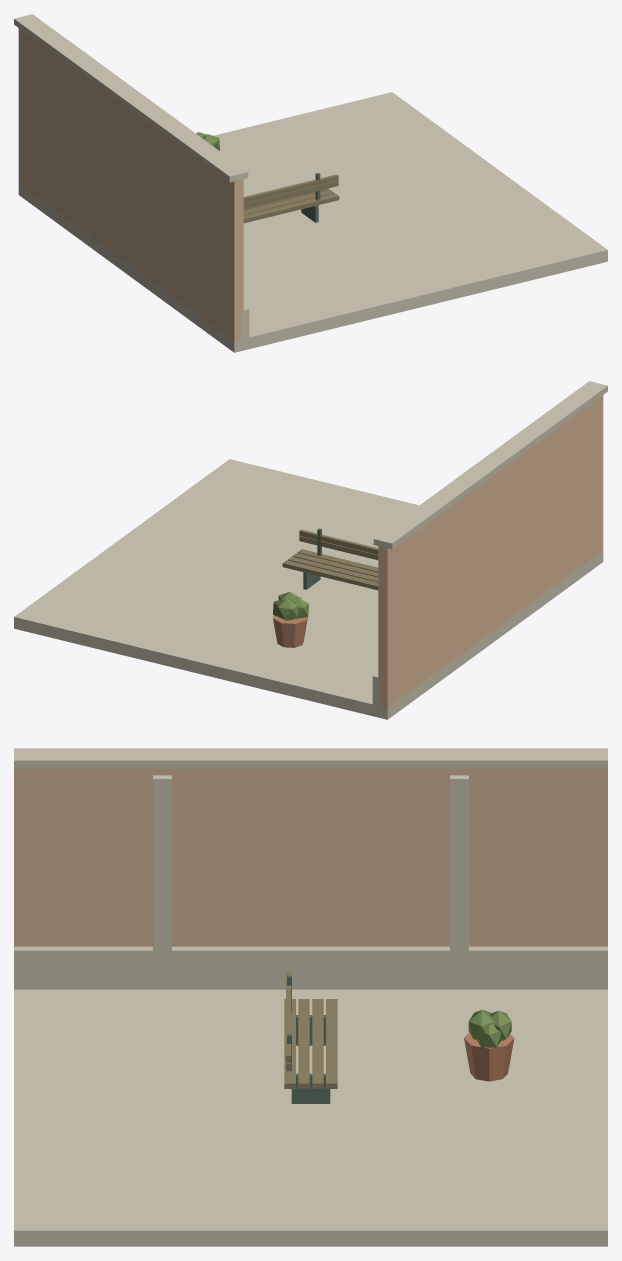
Rendered from district-0-1-1.glb.
3 renders of one model, top to bottom at view 1: azimuth 30°, elevation 25°; view 2: azimuth 150°, elevation 25°; view 3: azimuth 270°, elevation 25°, orthographic. The views are drawn at different scales.
Parts seen in each view (by area): view 1: stone.012, plaster.011, wood.007; view 2: stone.012, plaster.011, wood.007, clay.003, leaf.004; view 3: stone.012, plaster.011, wood.007, clay.003, leaf.004, metal.005.
Part boxes in pixels (<box>): stone.012: <box>14,14,607,352</box>; plaster.011: <box>18,28,243,340</box>; wood.007: <box>243,174,339,223</box>; stone.012: <box>14,381,607,719</box>; plaster.011: <box>378,395,603,707</box>; wood.007: <box>282,529,378,590</box>; clay.003: <box>273,615,307,647</box>; leaf.004: <box>273,592,308,620</box>; stone.012: <box>14,748,607,1246</box>; plaster.011: <box>14,769,607,946</box>; wood.007: <box>284,971,337,1088</box>; clay.003: <box>464,1032,514,1081</box>; leaf.004: <box>468,1009,511,1047</box>; metal.005: <box>287,975,330,1103</box>.
Bounding box in the file's own units: 8.1 × 3.63 × 8.
